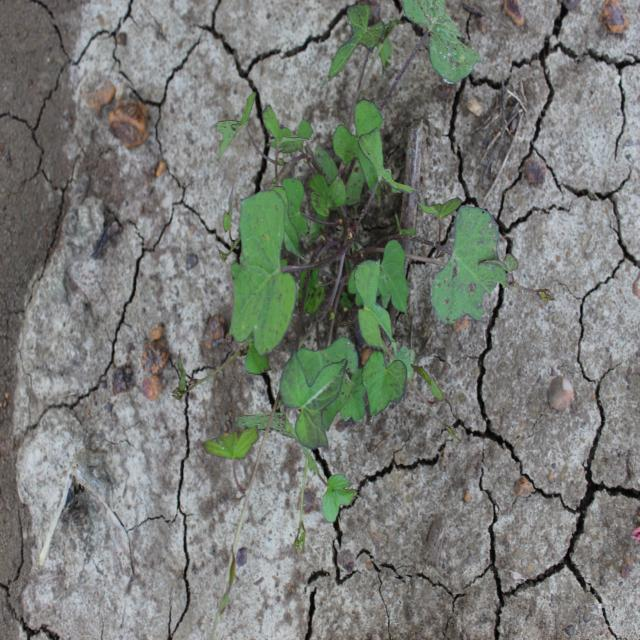MorningGlory: (168, 1, 556, 635)
